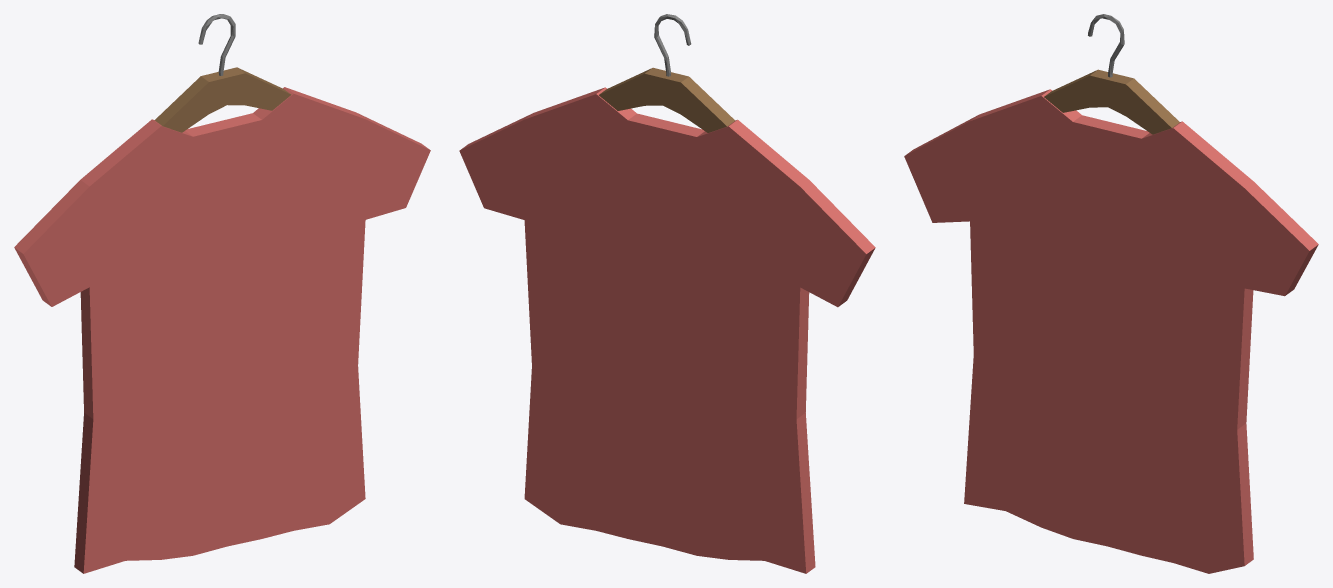
The model's file is Clothes6_C1.fbx.
3 renders of one model, left to right at view 1: azimuth 30°, elevation 25°; view 2: azimuth 150°, elevation 25°; view 3: azimuth 330°, elevation 25°, orthographic.
Parts seen in each view (by area): view 1: Clothes6_C1; view 2: Clothes6_C1; view 3: Clothes6_C1.
Part boxes in pixels (<box>): Clothes6_C1: <box>14,14,430,573</box>; Clothes6_C1: <box>459,14,875,573</box>; Clothes6_C1: <box>904,14,1318,573</box>.
Size of the model in its own units: 50.52 by 63.08 by 1.99.
